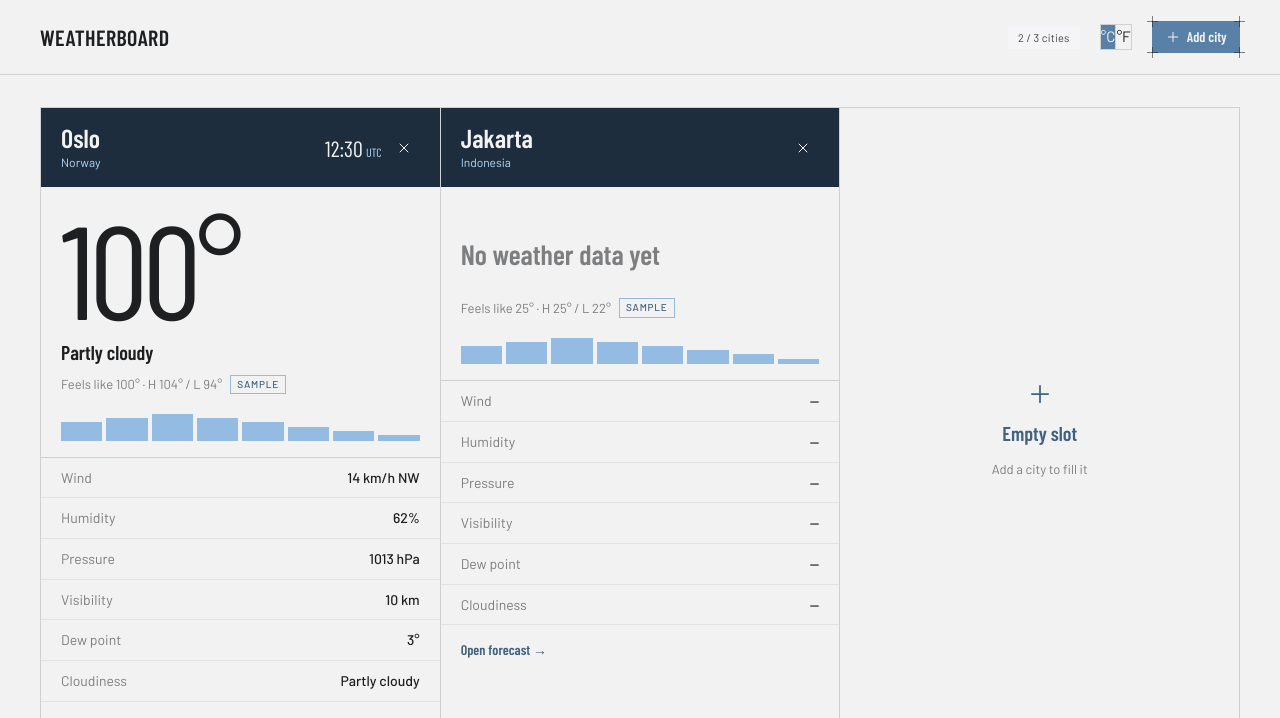
Test case: App › removes a city with the × button without opening it
This screenshot has width=1280, height=718.
Click the button named "Remove Oslo" at (404, 148), box [388,132,420,164]
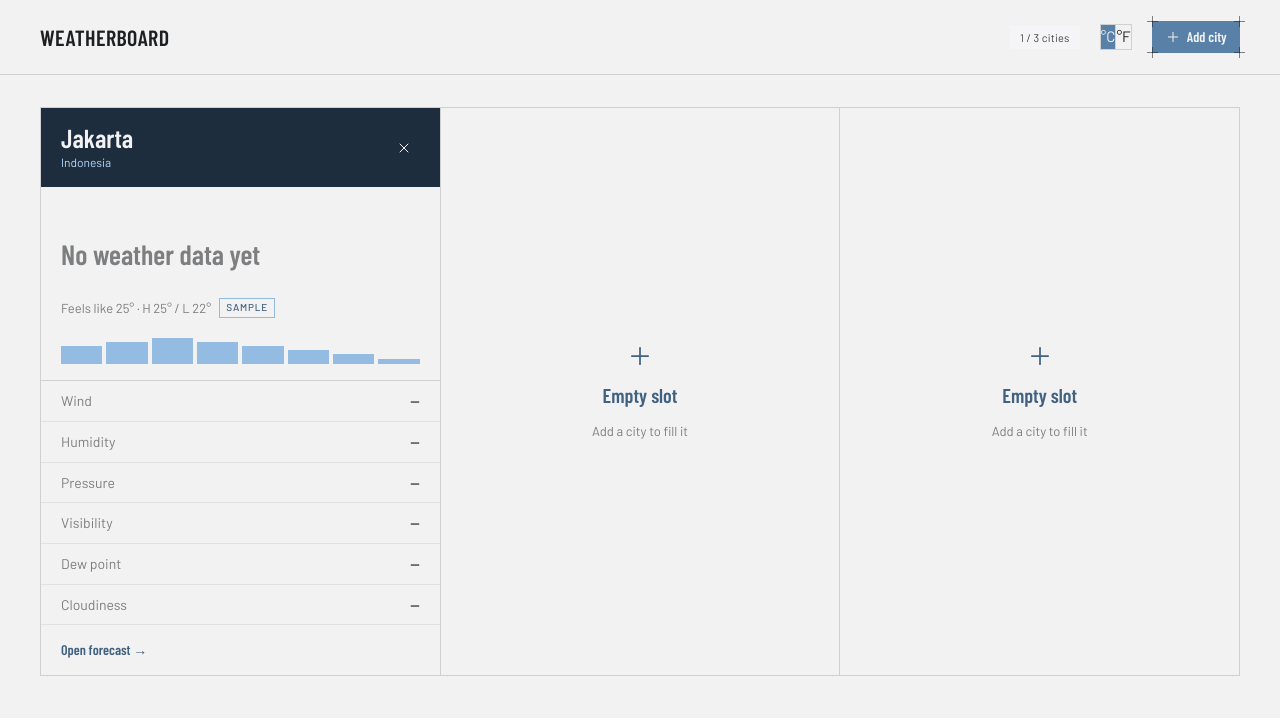
Now the button "Oslo" is gone
Now the text "1 / 3 cities" is shown, box [1010,26,1080,48]
